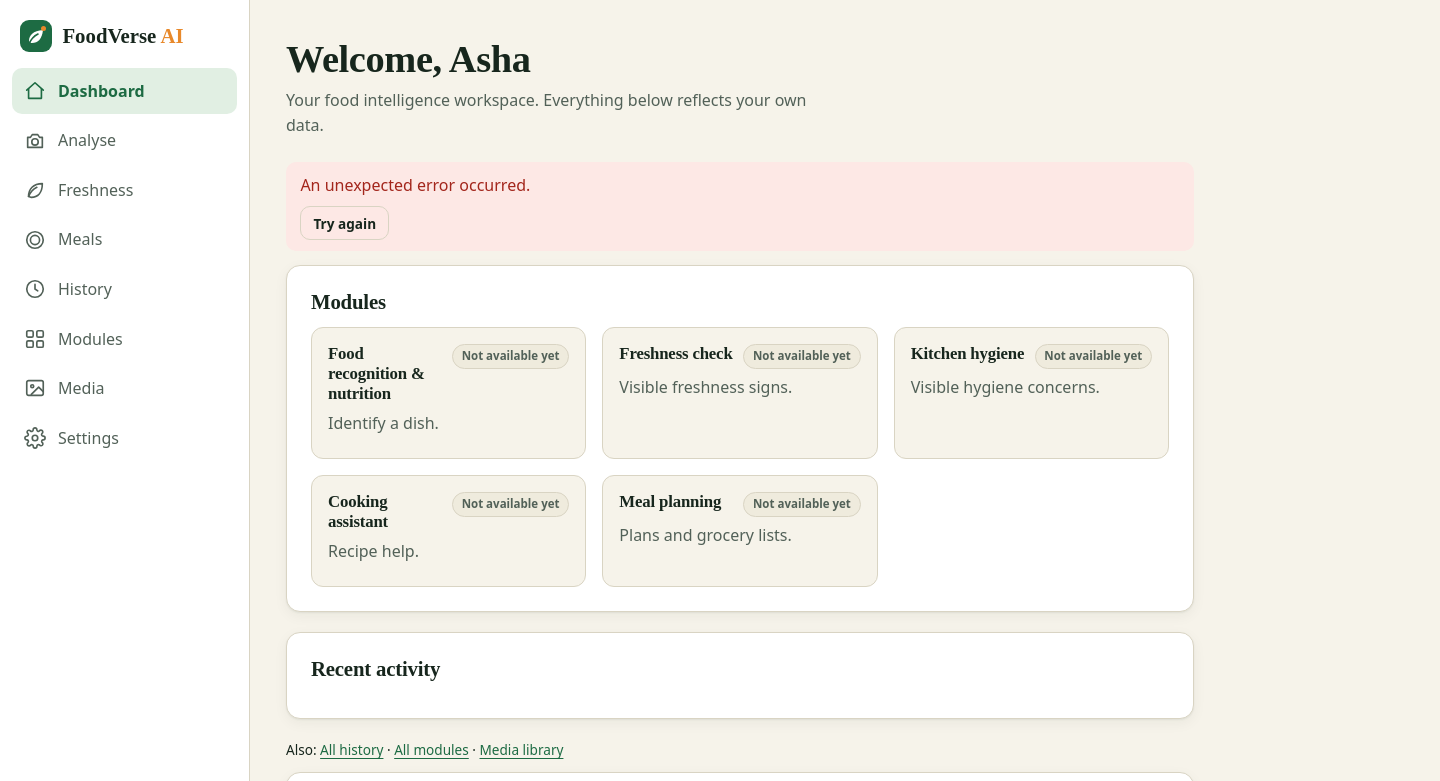
Scenario: dashboard data loading › shows an error state with retry, and recovers
The image size is (1440, 781).
Step 1. Click the button "Try again" → {"x": 345, "y": 223}, box [300,206,389,240]
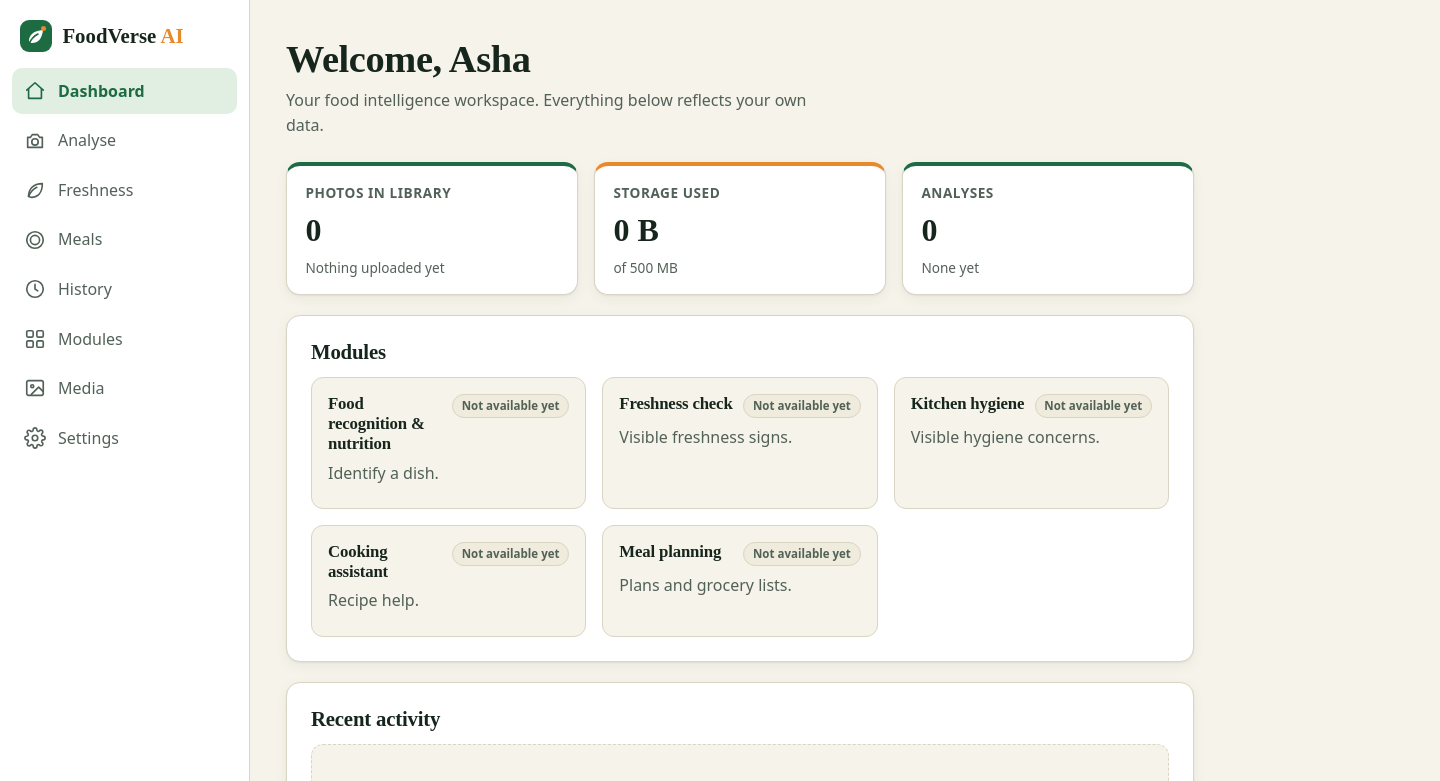
Now the text "Nothing uploaded yet" is shown, box [305,258,445,277]
